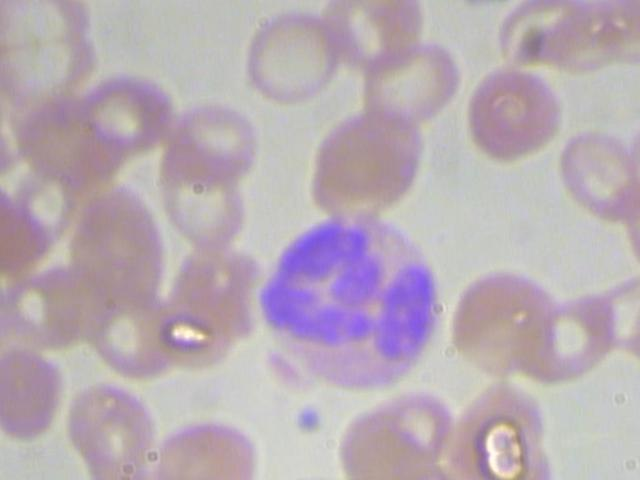Platelets: (50, 177, 174, 326)
RBC: (288, 98, 435, 227), (438, 256, 573, 389), (147, 137, 267, 264), (151, 83, 274, 195), (452, 57, 575, 168), (230, 0, 353, 110), (326, 383, 464, 480), (351, 35, 471, 140), (60, 369, 165, 477), (314, 0, 440, 84), (441, 374, 560, 461), (142, 398, 265, 480), (552, 116, 640, 227), (212, 0, 336, 6)
WBC: (287, 396, 327, 441)
